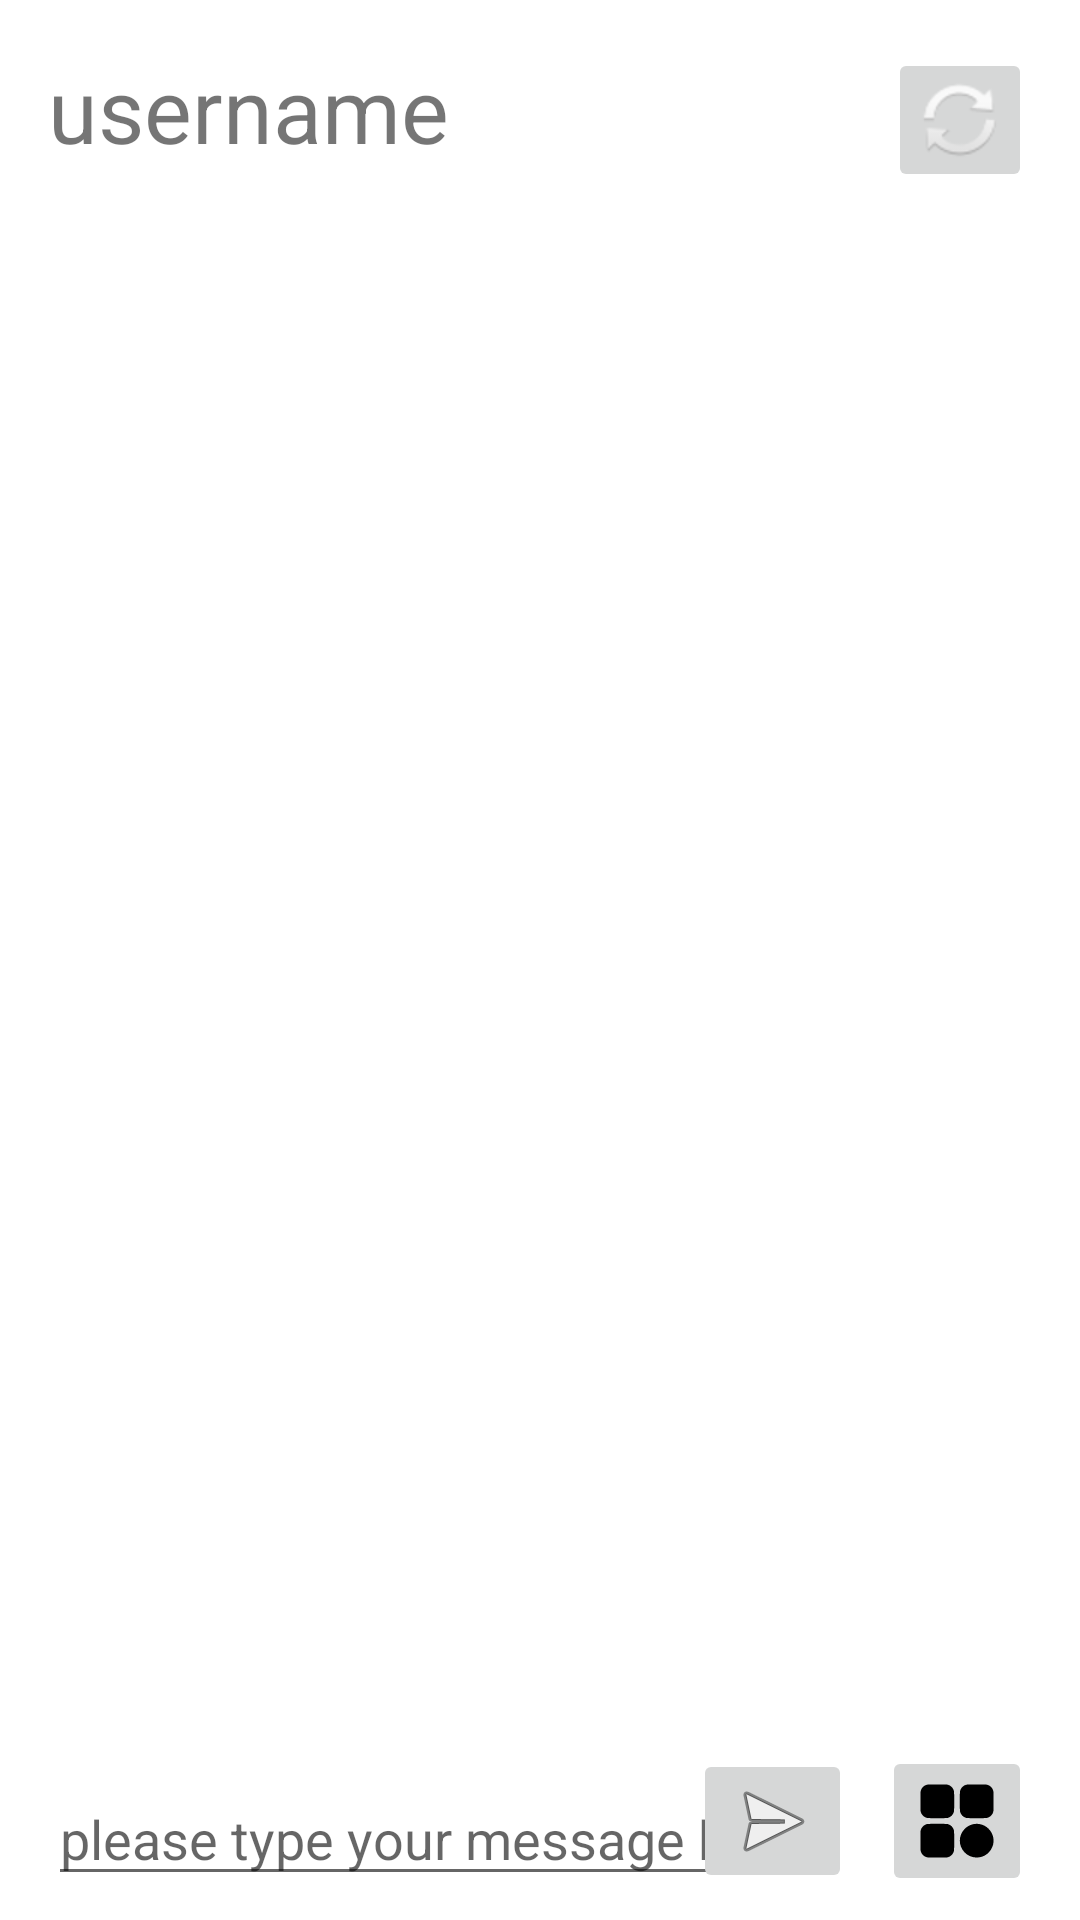

Icons on this 1080 x 1920 Android screen, each with its box as (x1, y1, x2, y2):
application: (894, 1764, 1020, 1878)
popup sync: (900, 66, 1020, 174)
send: (693, 1767, 840, 1875)
